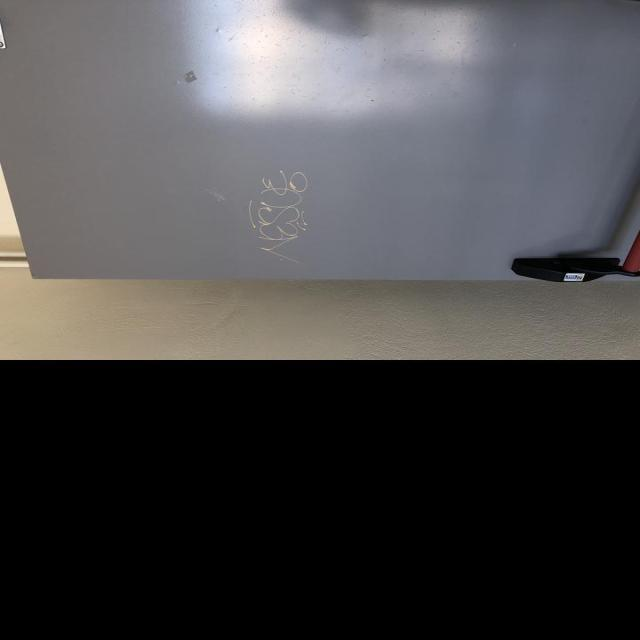nonspitting: (248, 170, 308, 263)
